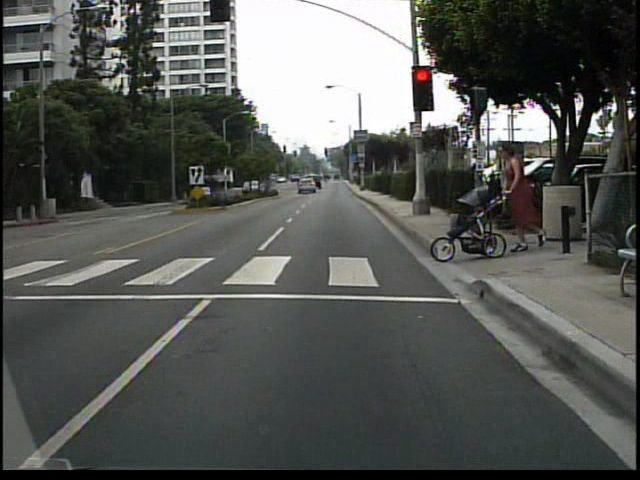person: (495, 145, 551, 257)
